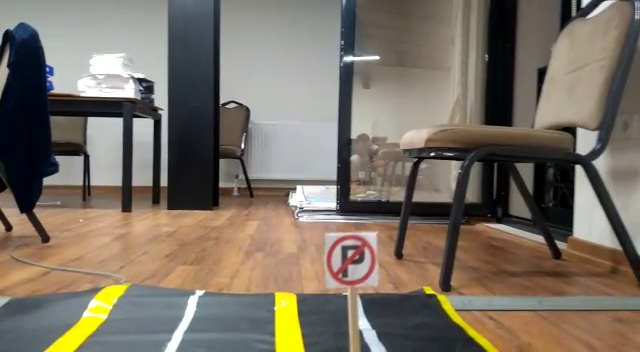park_yapilmaz: (325, 232, 379, 287)
